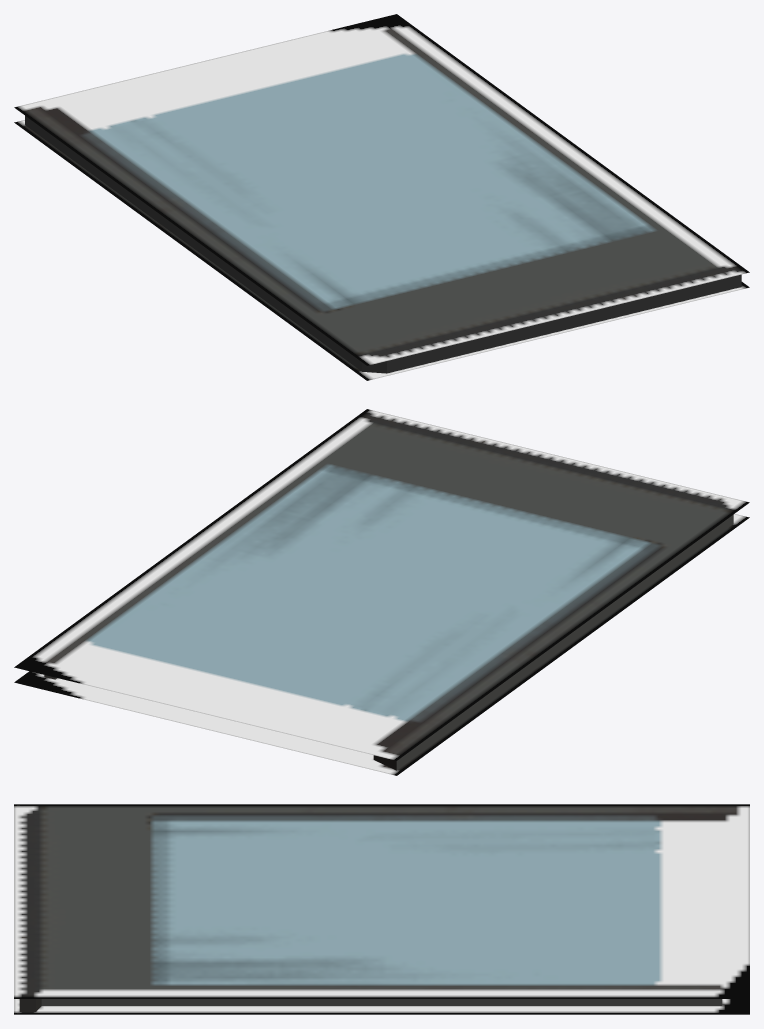
Rendered from pz_native_location_community_police_01_37_frame.obj.
3 renders of one model, top to bottom at view 1: azimuth 30°, elevation 25°; view 2: azimuth 150°, elevation 25°; view 3: azimuth 270°, elevation 25°, orthographic. The views are drawn at different scales.
Parts seen in each view (by area): view 1: pz_native_location_community_police_01_37_frame; view 2: pz_native_location_community_police_01_37_frame; view 3: pz_native_location_community_police_01_37_frame.
Boxes of the visible parts, x1,y1,x2,y2 form: pz_native_location_community_police_01_37_frame: [14, 14, 749, 380]; pz_native_location_community_police_01_37_frame: [14, 409, 749, 775]; pz_native_location_community_police_01_37_frame: [14, 804, 749, 1014].
Size of the model in its own units: 1.06 by 0.04 by 1.7.
Materials: 1 (1 with a texture image).
